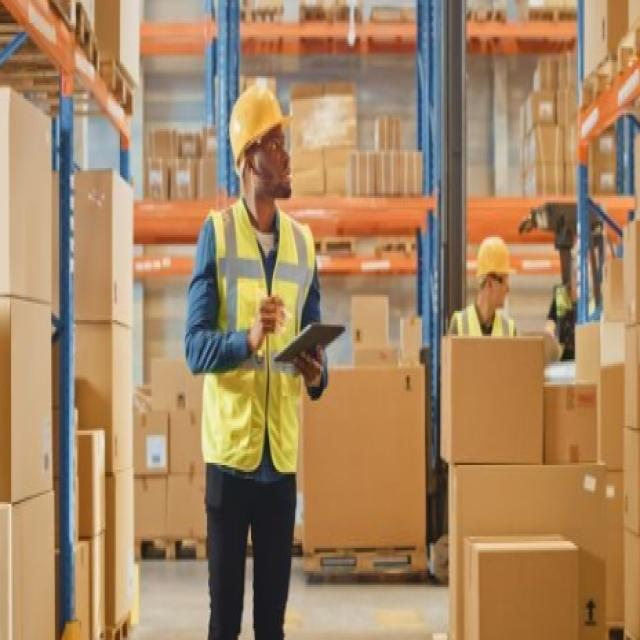hard_hat: (225, 77, 301, 205), (472, 230, 514, 315)
vest: (198, 196, 317, 484), (451, 300, 520, 450)
